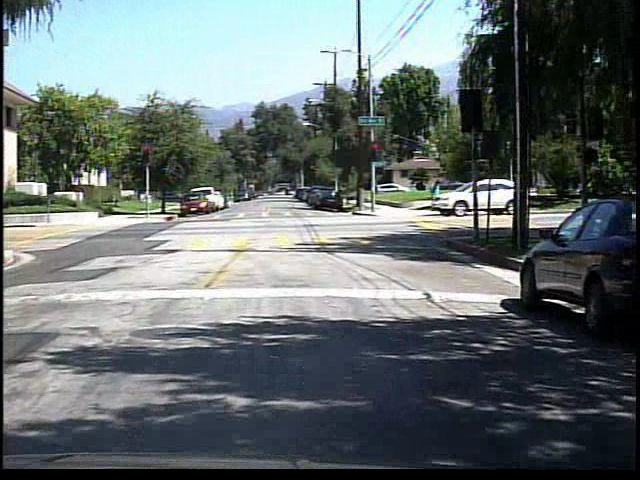person: (427, 175, 446, 208)
